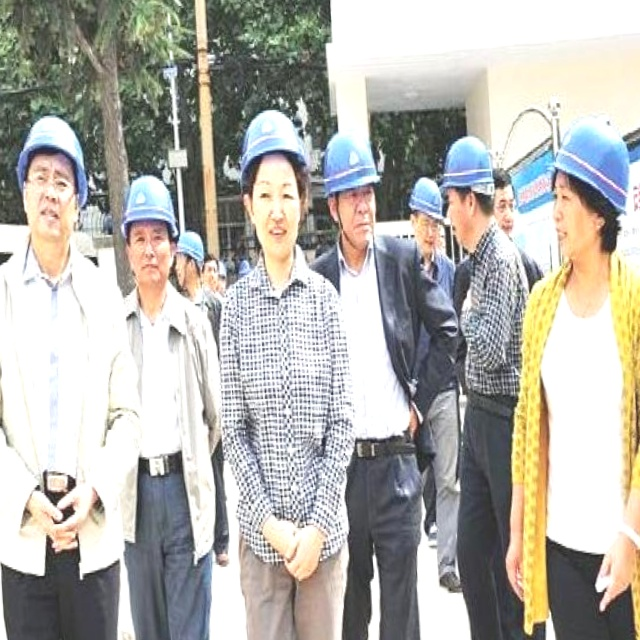Con_Casco: (240, 107, 305, 233), (19, 112, 77, 238), (121, 169, 178, 281)
Sin_Chaleco: (0, 245, 136, 578), (520, 263, 640, 562), (221, 261, 351, 535)
